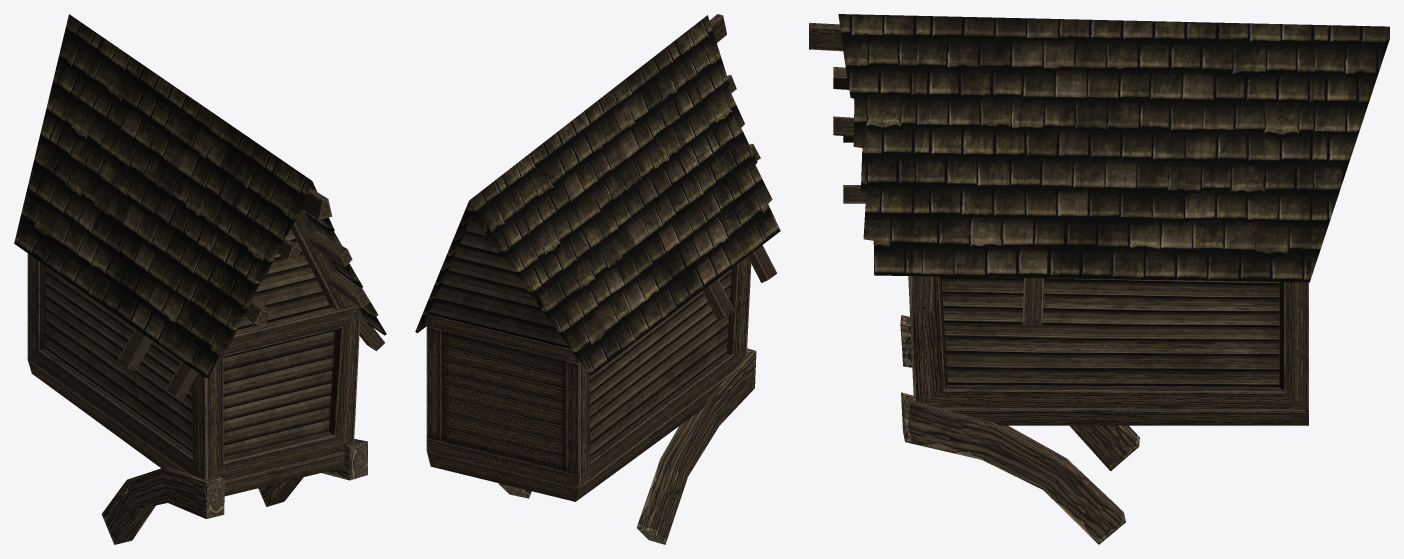
File: Window_c04.fbx
3 renders of one model, left to right at view 1: azimuth 30°, elevation 25°; view 2: azimuth 150°, elevation 25°; view 3: azimuth 270°, elevation 25°, orthographic. The views are drawn at different scales.
Visible parts, largest first — view 1: Window_c04; view 2: Window_c04; view 3: Window_c04.
Part boxes in pixels (x1=…): Window_c04: x1=14, y1=14, x2=386, y2=544; Window_c04: x1=415, y1=14, x2=780, y2=544; Window_c04: x1=809, y1=14, x2=1389, y2=544.
Bounding box in the file's own units: 3.76 × 7.24 × 7.76.
